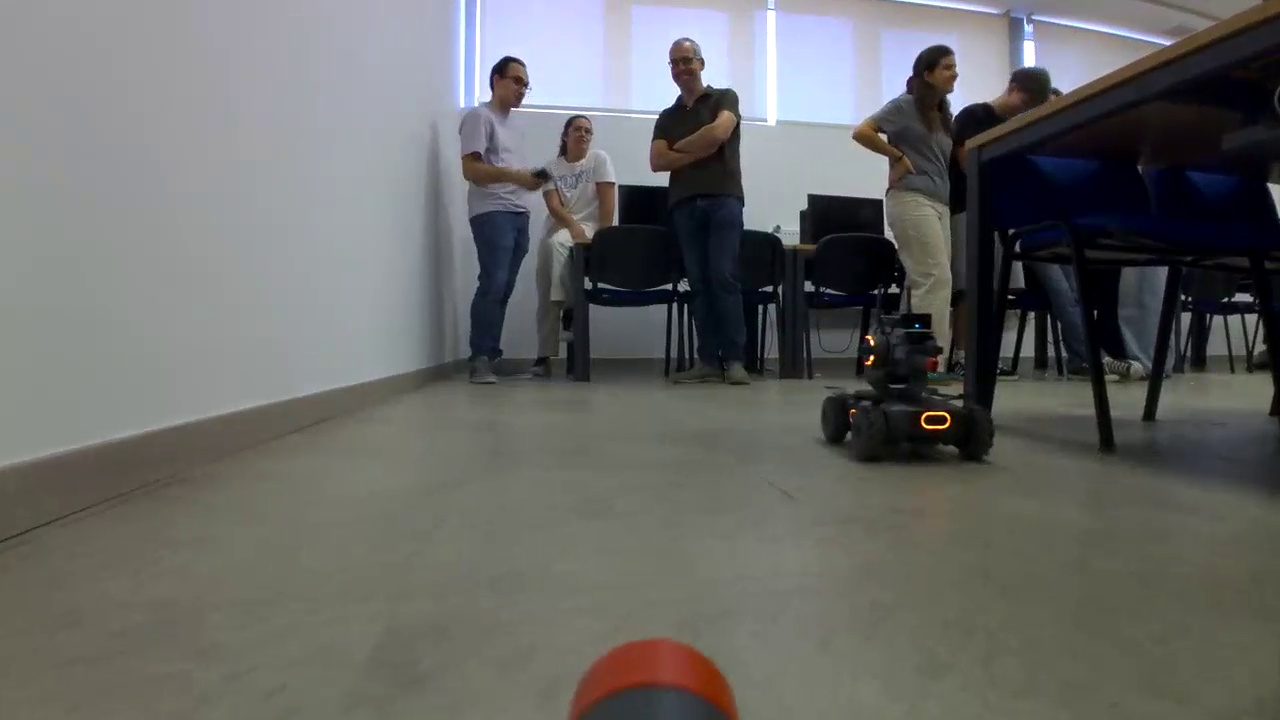robot: (810, 321, 996, 465)
